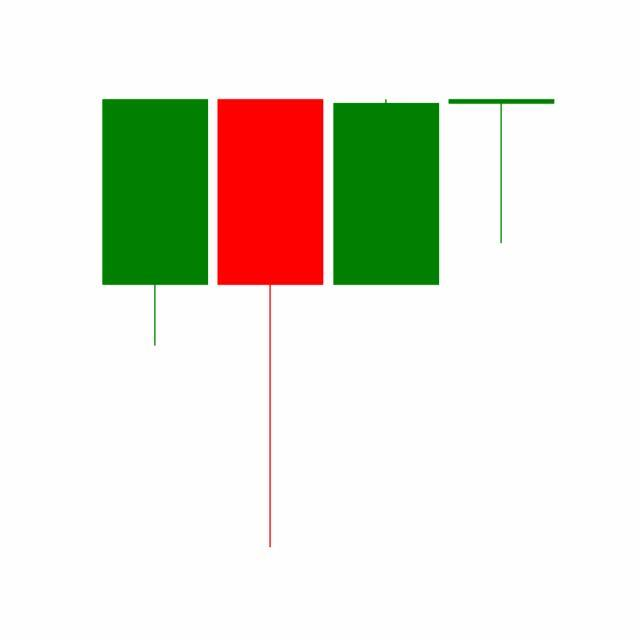Marubozu: (329, 97, 445, 287)
